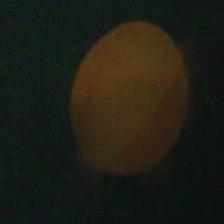fertile: (62, 15, 194, 178)
